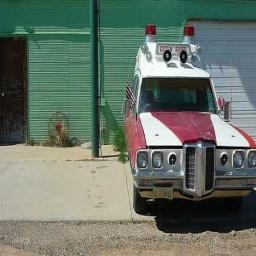ambulance: (124, 25, 255, 212)
